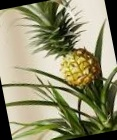Pineapple: (20, 6, 102, 84)
